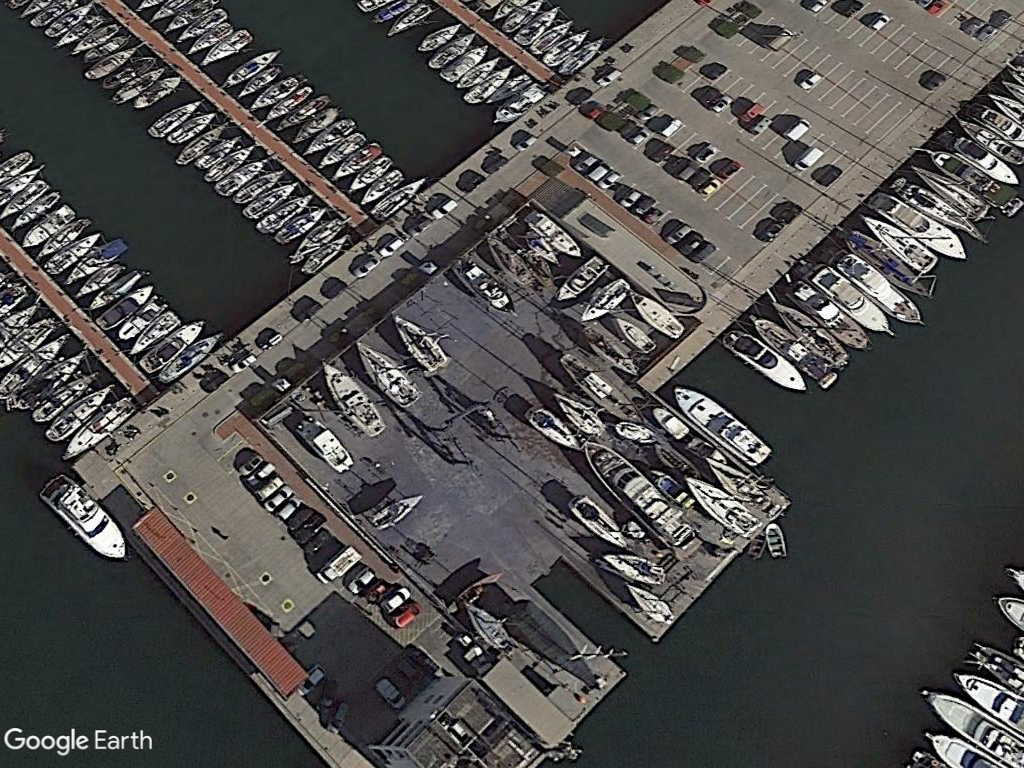boat: (667, 377, 778, 471), (28, 465, 130, 567), (311, 353, 387, 439), (281, 406, 357, 476), (559, 488, 635, 553), (380, 310, 453, 373), (455, 262, 520, 322), (517, 399, 583, 454), (357, 488, 429, 536), (625, 287, 687, 342), (520, 204, 584, 257)
truck: (306, 548, 361, 585), (784, 143, 825, 172), (777, 114, 816, 143)
